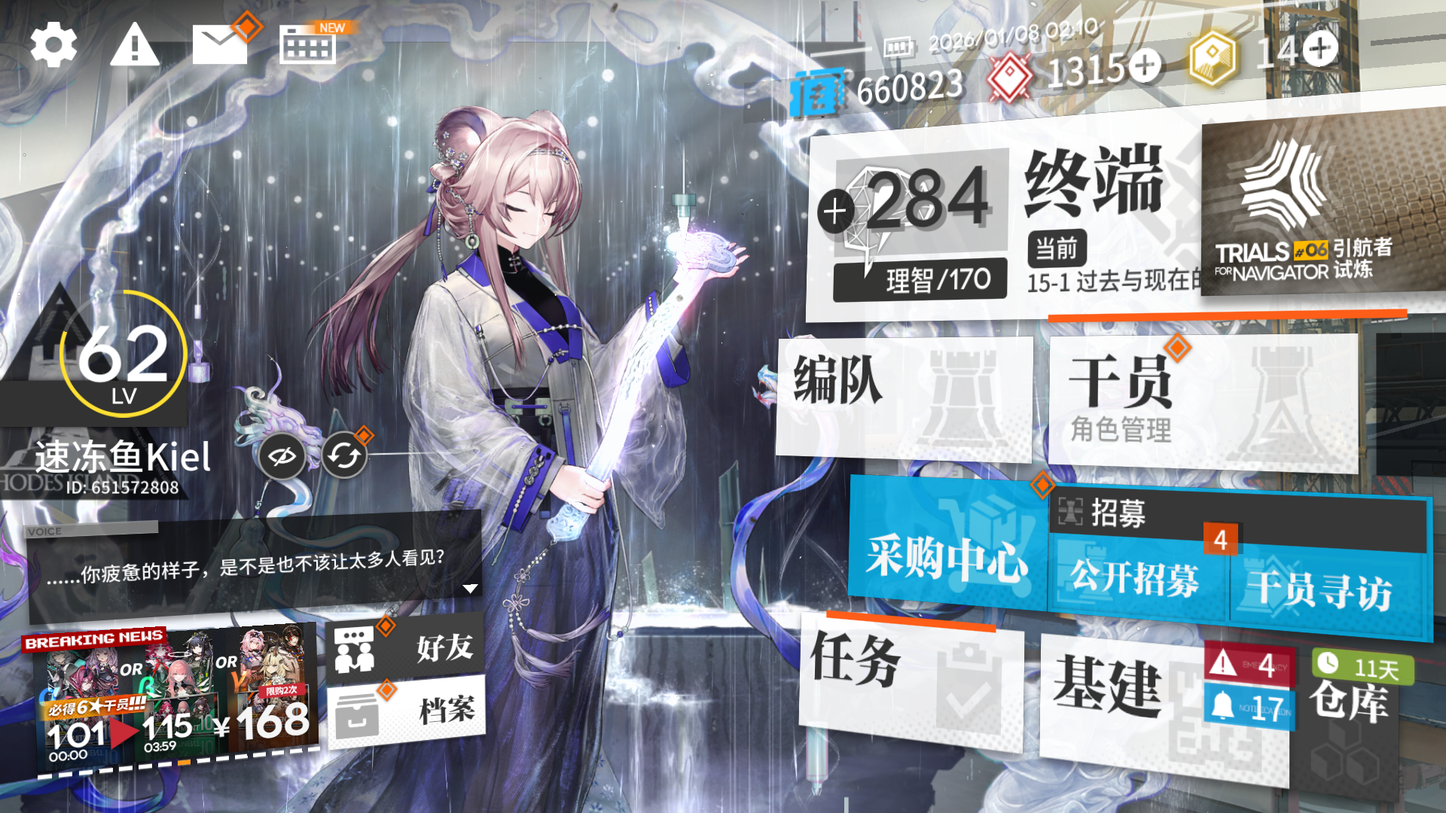home_button: (1011, 127, 1176, 225)
infrastructure_button: (1049, 634, 1292, 778)
